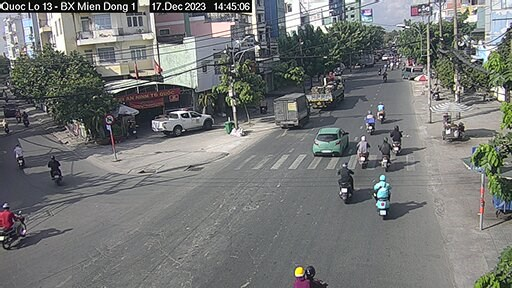car: (152, 108, 214, 131), (308, 123, 345, 156)
motorbike: (373, 174, 392, 214), (336, 164, 351, 202), (354, 138, 373, 167), (380, 137, 393, 169), (389, 125, 404, 151), (375, 103, 388, 122), (365, 112, 378, 130)
truck: (277, 95, 313, 126)
